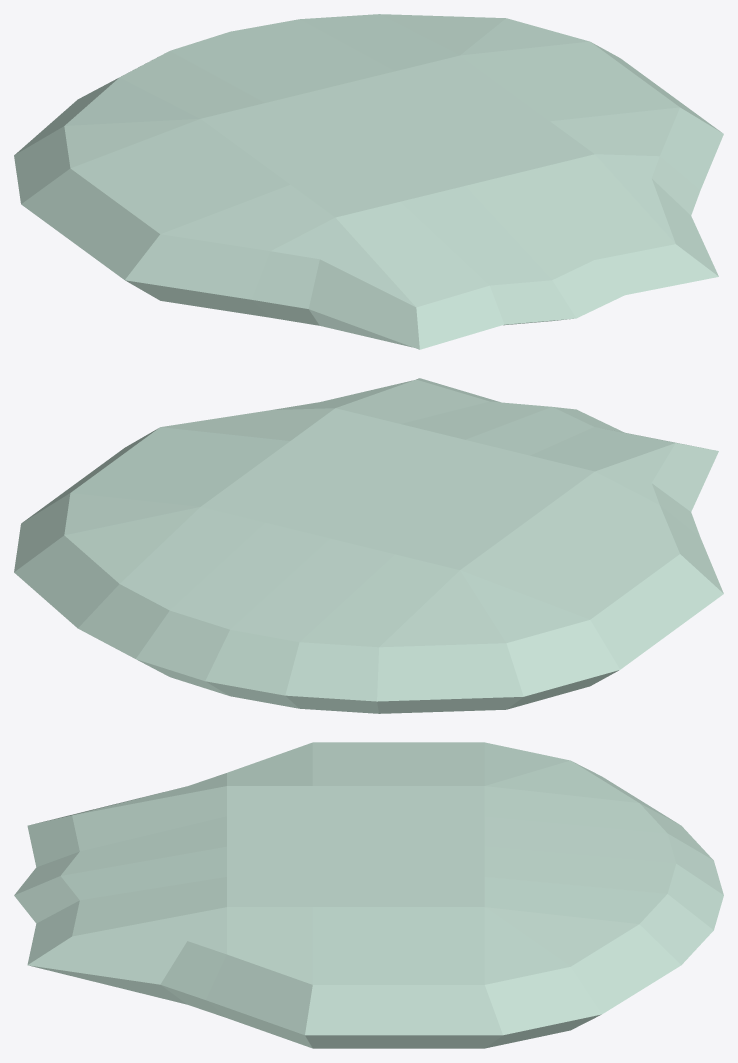
File: Clams.fbx
The picture shows the model from 3 angles, top to bottom: view 1: azimuth 30°, elevation 25°; view 2: azimuth 150°, elevation 25°; view 3: azimuth 270°, elevation 25°; orthographic projection. The views are drawn at different scales.
Parts seen in each view (by area): view 1: Cube; view 2: Cube; view 3: Cube.
Boxes of the visible parts, x1,y1,x2,y2 form: Cube: [14, 14, 723, 349]; Cube: [14, 378, 723, 713]; Cube: [14, 742, 723, 1048].
Size of the model in its own units: 182 by 24.56 by 196.
